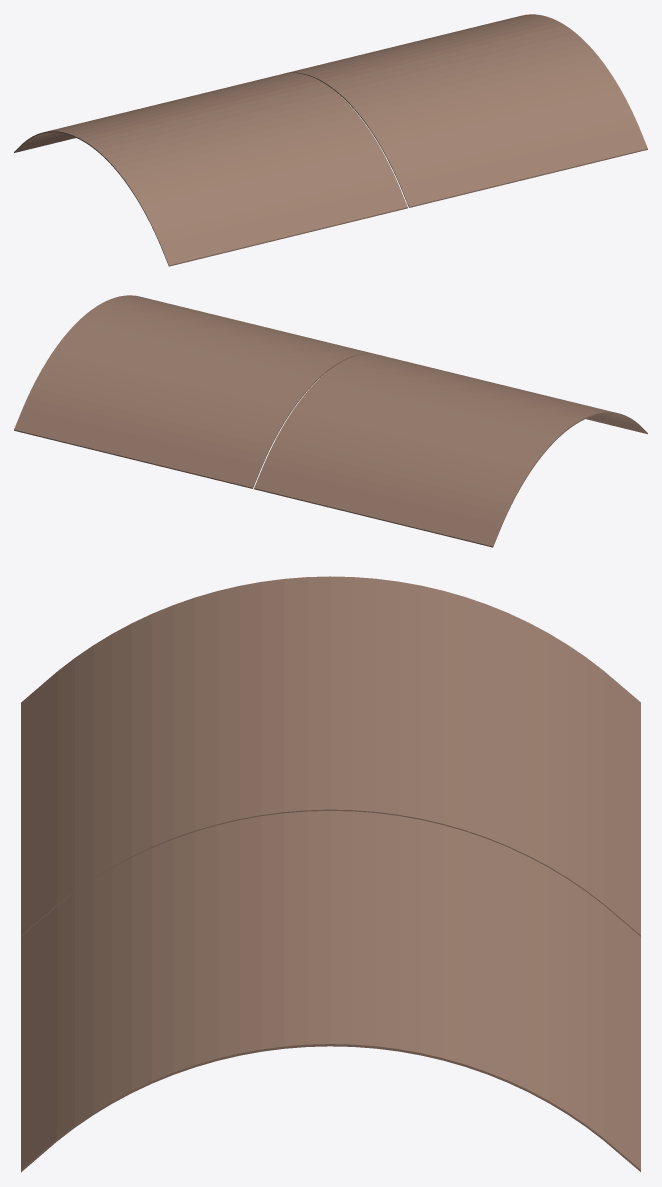
The model's file is awingVar1Defoult2.gltf.
The picture shows the model from 3 angles, top to bottom: view 1: azimuth 30°, elevation 25°; view 2: azimuth 150°, elevation 25°; view 3: azimuth 270°, elevation 25°; orthographic projection. The views are drawn at different scales.
Visible parts, largest first — view 1: awingVar1Defoult2; view 2: awingVar1Defoult2; view 3: awingVar1Defoult2.
Boxes of the visible parts, x1,y1,x2,y2 form: awingVar1Defoult2: (14, 14, 647, 266); awingVar1Defoult2: (14, 295, 647, 547); awingVar1Defoult2: (21, 576, 640, 1172).
Bounding box in the file's own units: 4.2 × 0.5382 × 2.35.
